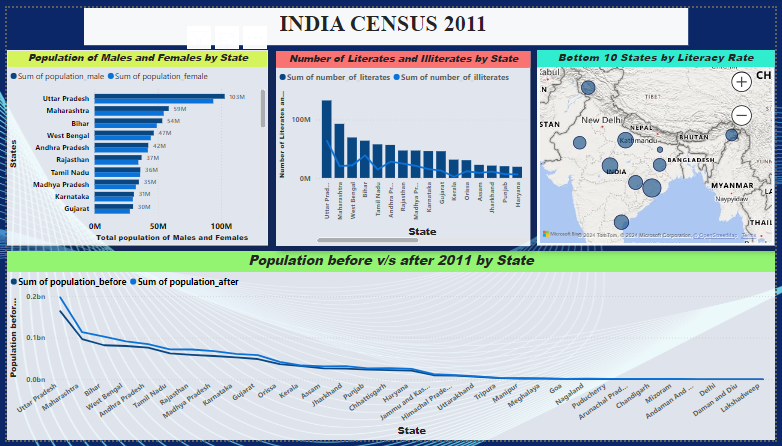

What the dashboard file says about the page in this screenshot:
{"tool":"powerbi","page":{"name":"Insight  2","canvas":[1280,720],"ordinal":1},"visuals":[{"type":"clusteredBarChart","title":"Population of Males and Females by State","fields":{"Category":["STATES AND MALE FEMALE POPULATION.state"],"Y":["Sum(STATES AND MALE FEMALE POPULATION.population_male)","Sum(STATES AND MALE FEMALE POPULATION.population_female)"]},"box":[0,69.9,435.4,325.6],"z":0},{"type":"lineChart","title":"Population before v/s after 2011 by State","fields":{"Category":["POPULATION BEFORE.State"],"Y":["Sum(POPULATION BEFORE.population_before)","Sum(POPULATION BEFORE.population_after)"]},"box":[0,405.2,1279.6,314.8],"z":1000},{"type":"textbox","box":[129,0,1007,61.5],"z":2000},{"type":"lineClusteredColumnComboChart","title":"Number of Literates and Illiterates  by State","fields":{"Category":["LITERATES AND ILLITERATES STATE DISTRICT WISE.state"],"Y":["Sum(LITERATES AND ILLITERATES STATE DISTRICT WISE.number_of_literates)"],"Y2":["Sum(LITERATES AND ILLITERATES STATE DISTRICT WISE.number_of_illiterates)"]},"box":[447.8,71.7,424.4,324.9],"z":3000},{"type":"map","title":"Bottom  10 States by Literacy Rate","fields":{"Category":["HIGHEST LITERACY RATE  STATE WISE.State"],"Size":["Sum(HIGHEST LITERACY RATE  STATE WISE.avg_literacy)"]},"box":[884,69.9,395.6,325.6],"z":4000}]}

Visuals, with their boxes in screenshot pixels (x1, y1, x2, y2), scaled from the page's 1280x720 canvas onto the 782x446 screenshot:
"Population of Males and Females by State" clusteredBarChart: locate(0, 43, 266, 245)
"Population before v/s after 2011 by State" lineChart: locate(0, 251, 781, 445)
textbox: locate(79, 0, 694, 38)
"Number of Literates and Illiterates  by State" lineClusteredColumnComboChart: locate(274, 44, 533, 246)
"Bottom  10 States by Literacy Rate" map: locate(540, 43, 781, 245)
